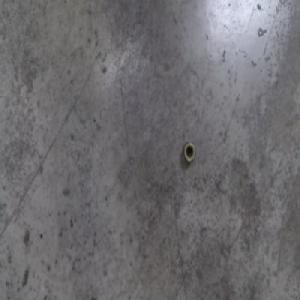Nut: (183, 141, 195, 165)
